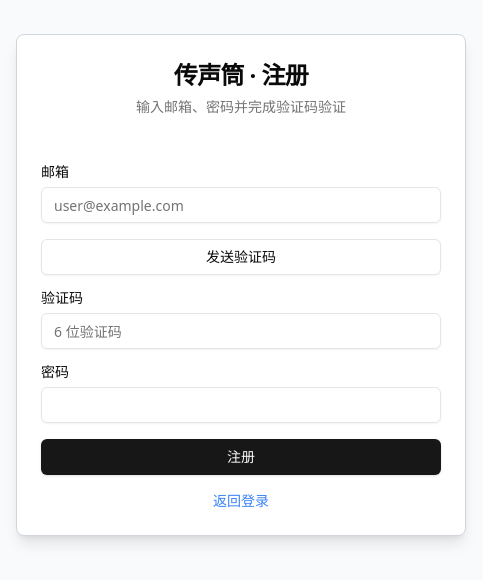
Scenario: Register Page › displays server validation error if register fails
The width and height of the screenshot is (483, 580).
Type "already@already.com" into the field labelled "邮箱" at (241, 205), box [41,187,441,223]
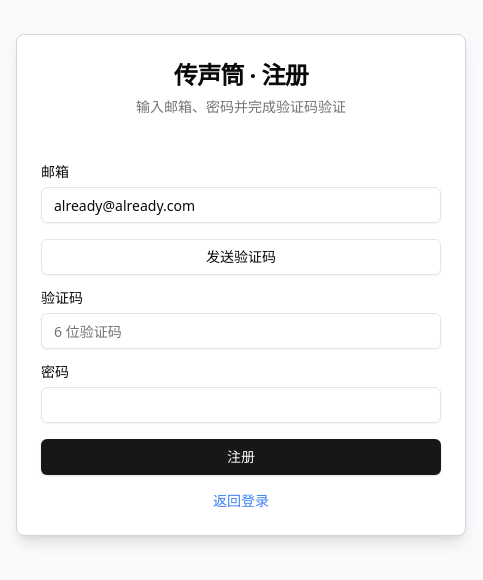
Type "123456" into the field labelled "验证码" at (241, 331), box [41,313,441,349]
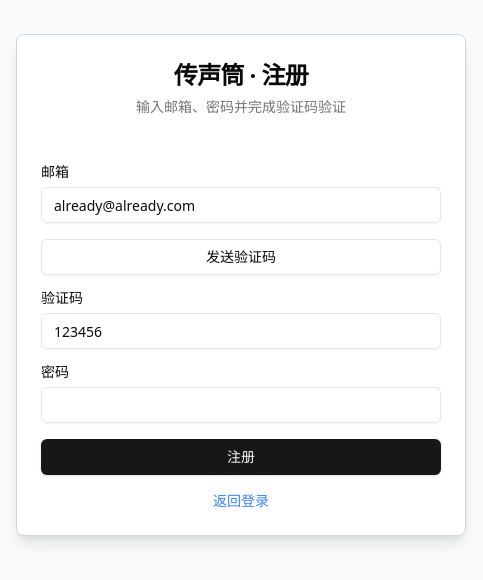
Type "@1231231%a" into the password field labelled "密码" at (241, 405), box [41,387,441,423]
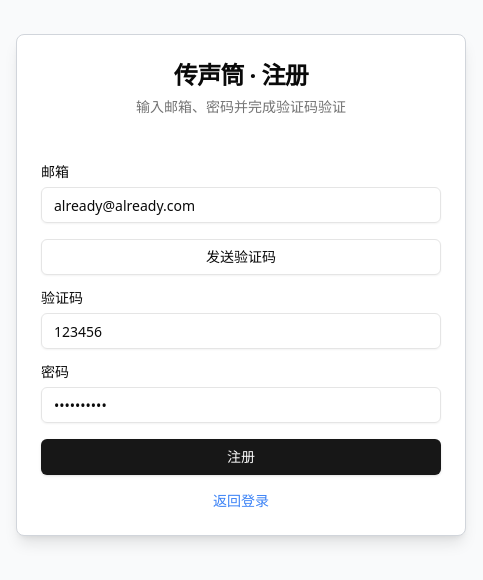
Click the button "注册" at (241, 457), box [41,439,441,475]
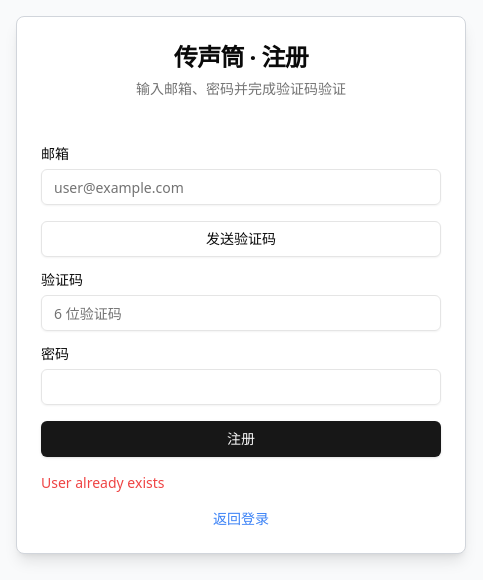
Expected: the text "User already exists" is shown, [41,473,164,492]
